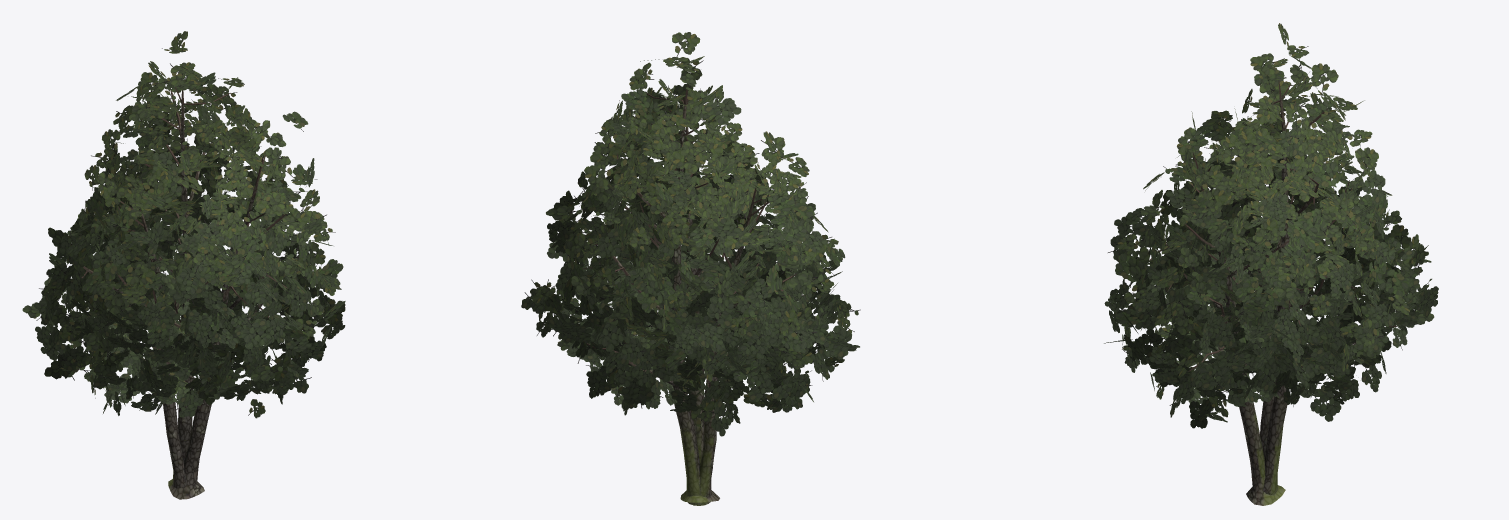
File: alder.glb
The picture shows the model from 3 angles, left to right: view 1: azimuth 30°, elevation 25°; view 2: azimuth 150°, elevation 25°; view 3: azimuth 270°, elevation 25°; orthographic projection. The views are drawn at different scales.
Visible parts, largest first — view 1: alder_cards_LOD0, alder_LOD0; view 2: alder_cards_LOD0, alder_LOD0; view 3: alder_cards_LOD0, alder_LOD0.
Part boxes in pixels (x1,y1,x2,y2): alder_cards_LOD0: [22, 31, 345, 418]; alder_LOD0: [81, 86, 298, 499]; alder_cards_LOD0: [521, 32, 860, 436]; alder_LOD0: [583, 85, 805, 505]; alder_cards_LOD0: [1104, 23, 1438, 428]; alder_LOD0: [1149, 80, 1398, 505].
Size of what is drawn, in the model's own units: 12.23 by 14.85 by 12.63.
Materials: 2 (2 with a texture image).
